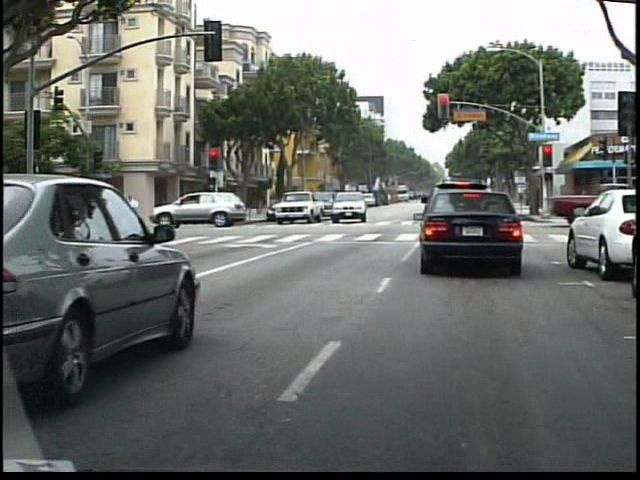person: (125, 192, 131, 233), (112, 191, 117, 215)
